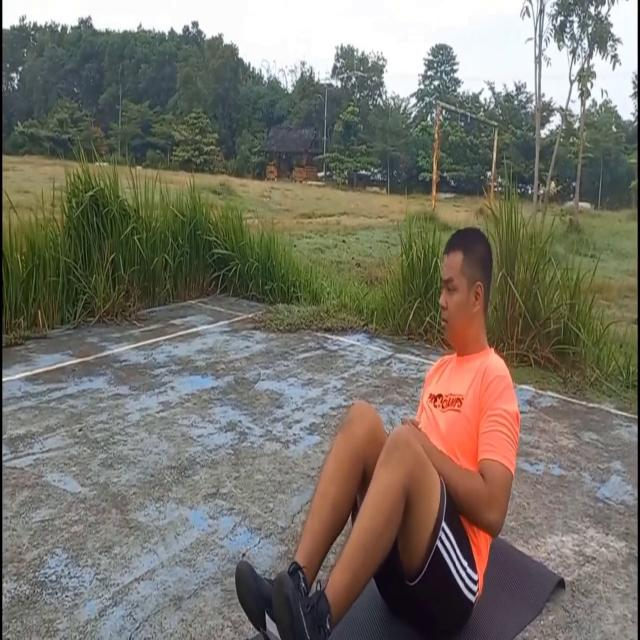Russian twist: (212, 189, 550, 640)
